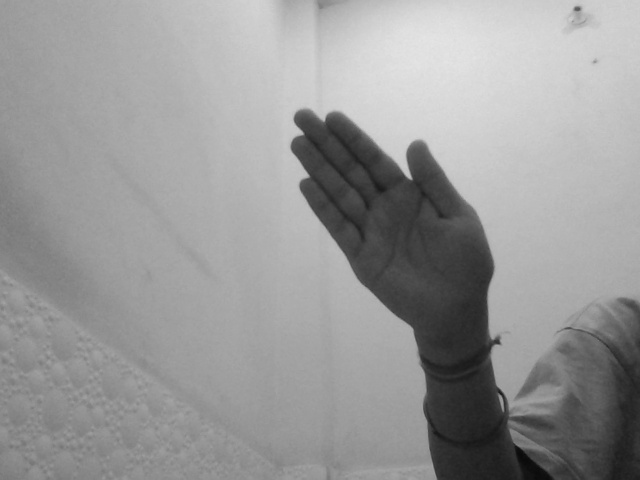Hello: (288, 102, 495, 348)
